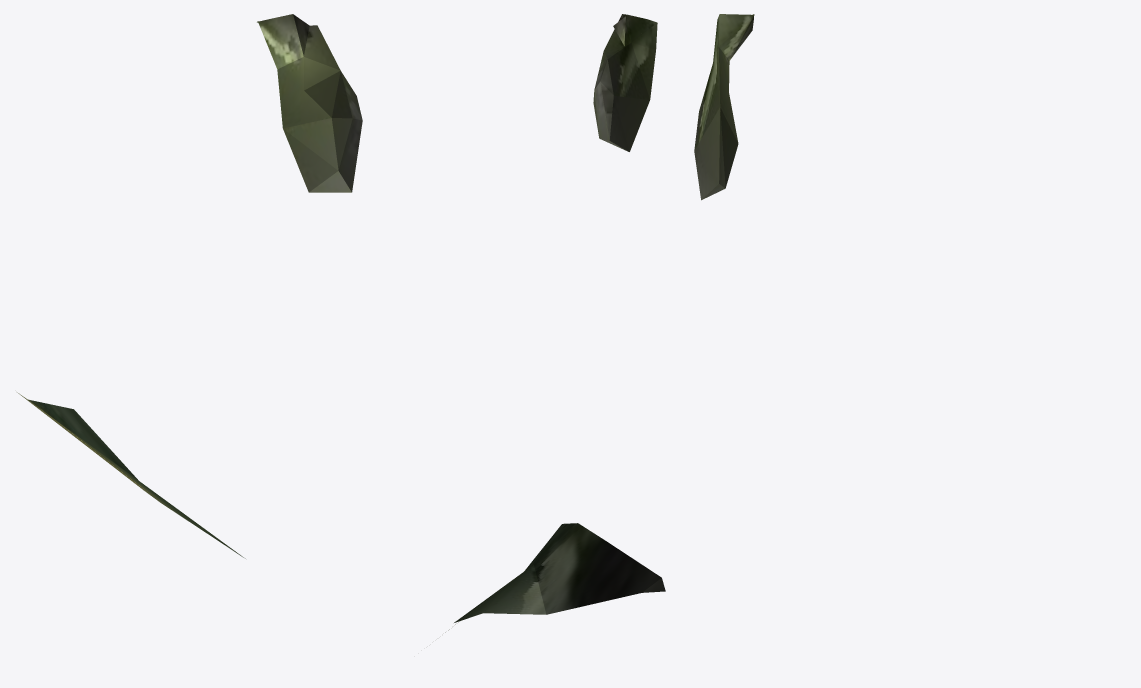
The picture shows the model from 3 angles, left to right: view 1: azimuth 30°, elevation 25°; view 2: azimuth 150°, elevation 25°; view 3: azimuth 270°, elevation 25°; orthographic projection. The views are drawn at different scales.
Bounding box in the file's own units: 0.7241 × 2.95 × 1.9.
Materials: 1 (1 with a texture image).
